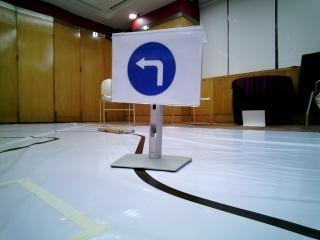left: (119, 36, 184, 101)
